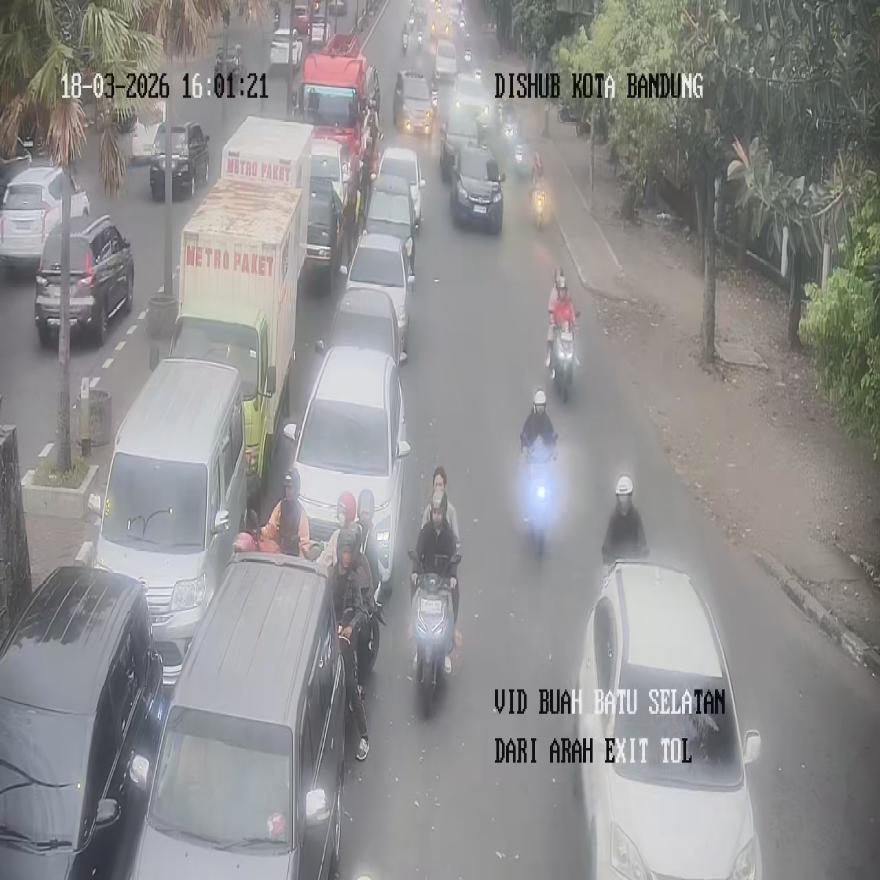Motor: (127, 554, 344, 878), (572, 560, 762, 878), (86, 358, 248, 683), (0, 564, 164, 877), (283, 343, 410, 594), (33, 214, 133, 346), (340, 229, 414, 356), (0, 163, 89, 266), (316, 284, 406, 366), (149, 120, 210, 198)
Truk: (409, 550, 459, 714), (522, 448, 555, 553), (549, 315, 577, 402), (510, 133, 525, 177), (532, 184, 545, 230)
